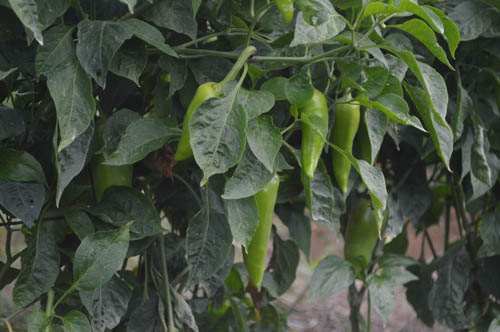ChiliPepper: (242, 179, 282, 292), (174, 84, 224, 165), (297, 94, 330, 183), (347, 196, 388, 267), (328, 97, 357, 194), (88, 161, 140, 192)
